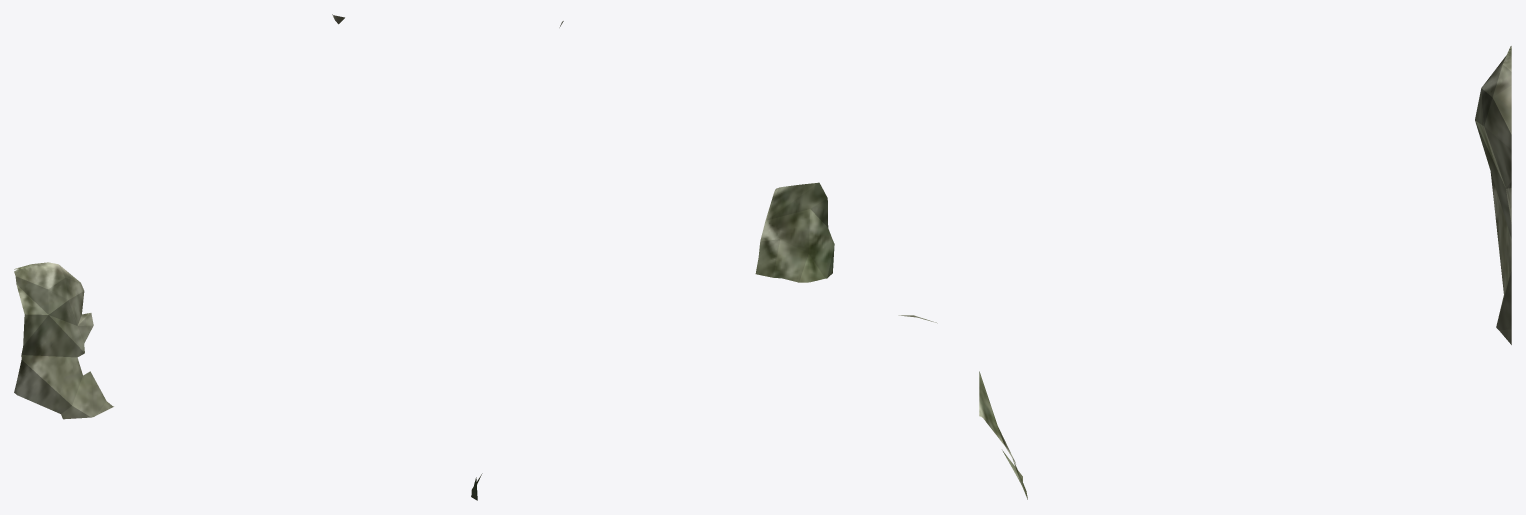
3 renders of one model, left to right at view 1: azimuth 30°, elevation 25°; view 2: azimuth 150°, elevation 25°; view 3: azimuth 270°, elevation 25°, orthographic. The views are drawn at different scales.
Size of the model in its own units: 2.95 by 2.95 by 2.95.
Materials: 1 (1 with a texture image).
